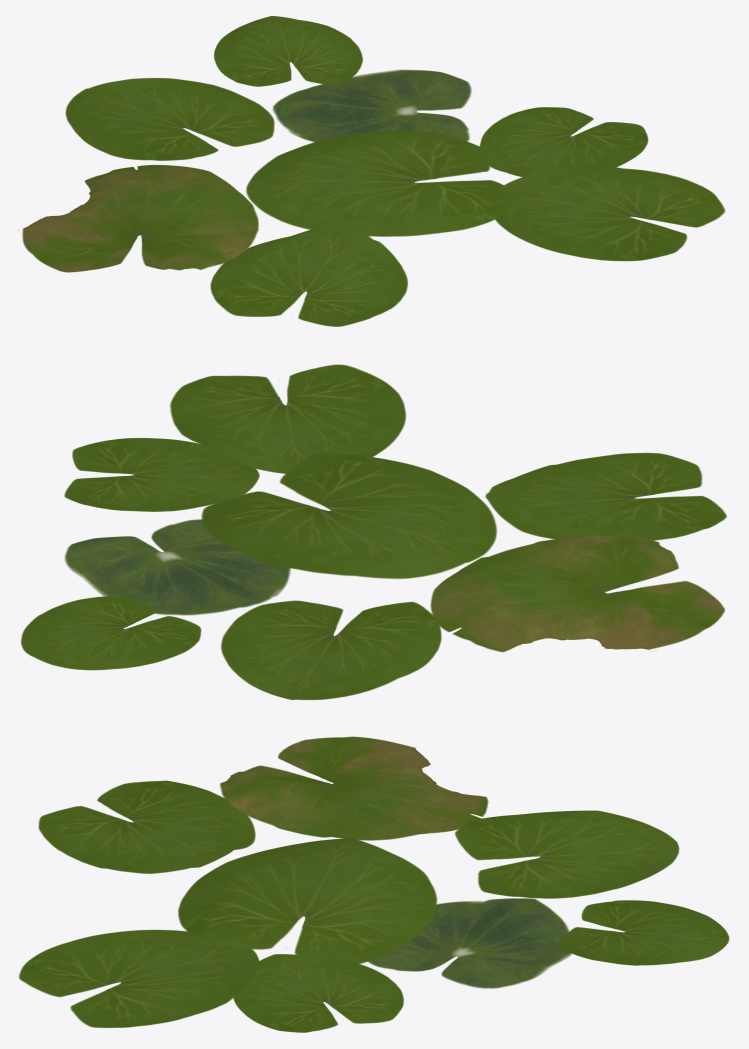
Rendered from SM_Plant_WaterLily_02.gltf.
3 renders of one model, top to bottom at view 1: azimuth 30°, elevation 25°; view 2: azimuth 150°, elevation 25°; view 3: azimuth 270°, elevation 25°, orthographic. The views are drawn at different scales.
Visible parts, largest first — view 1: SM_Plant_WaterLily_02; view 2: SM_Plant_WaterLily_02; view 3: SM_Plant_WaterLily_02.
Part boxes in pixels (left/top/right/bottom): SM_Plant_WaterLily_02: left=18, top=16, right=725, bottom=326; SM_Plant_WaterLily_02: left=21, top=364, right=726, bottom=699; SM_Plant_WaterLily_02: left=19, top=736, right=729, bottom=1032.
Size of the model in its own units: 1.09 by 0.0335 by 1.08.
Materials: 1 (1 with a texture image).
